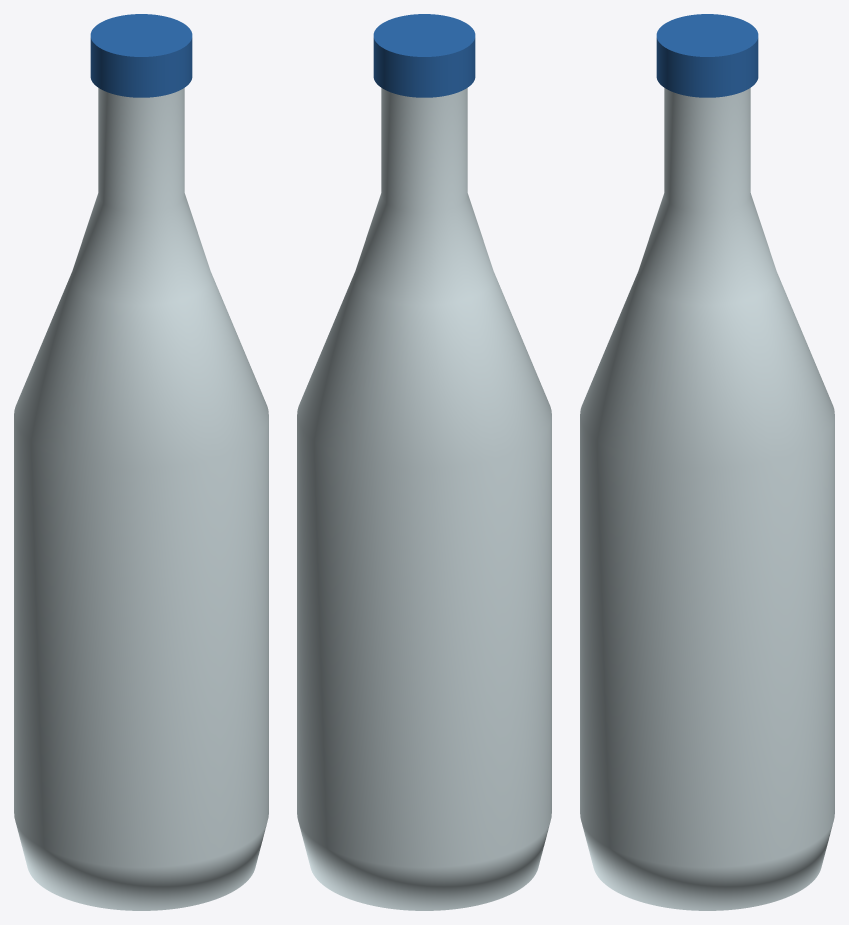
The model's file is garrafa-1-hero.glb.
3 views of the same model, side by side, from view 1: azimuth 30°, elevation 25°; view 2: azimuth 150°, elevation 25°; view 3: azimuth 270°, elevation 25° (orthographic).
Size of the model in its own units: 0.068 by 0.2436 by 0.068.
